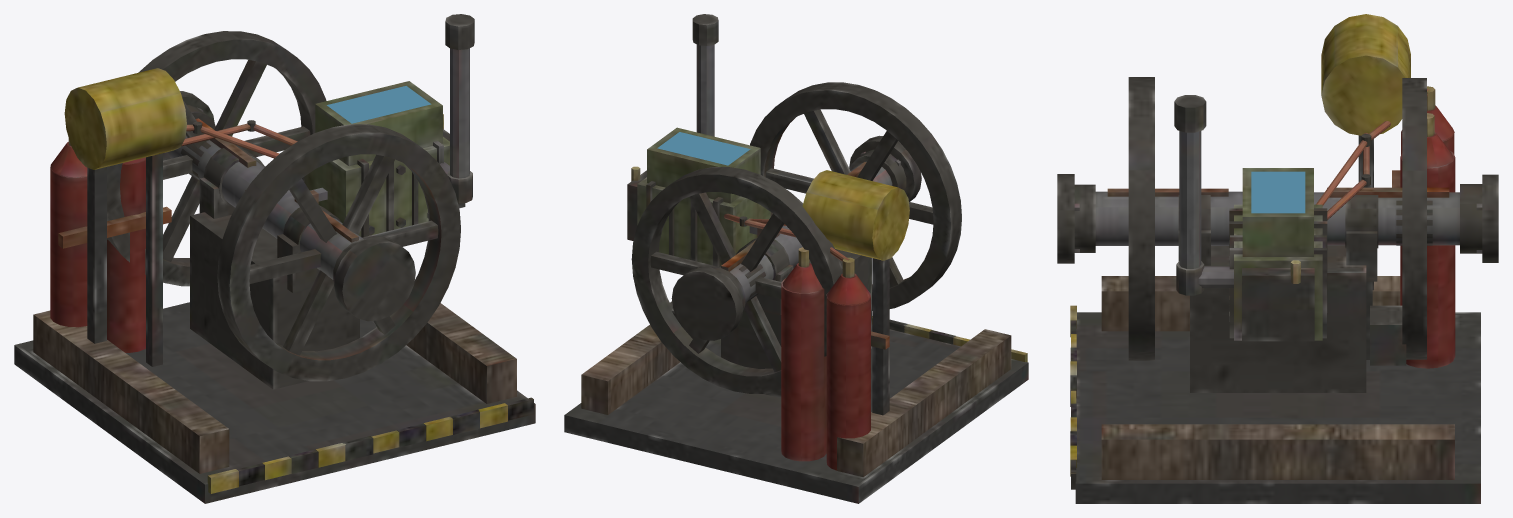
Rendered from feGasMotor.glb.
The picture shows the model from 3 angles, left to right: view 1: azimuth 30°, elevation 25°; view 2: azimuth 150°, elevation 25°; view 3: azimuth 270°, elevation 25°; orthographic projection. The views are drawn at different scales.
Visible parts, largest first — view 1: feGasMotor_Base, FeSpin_EngineCrank, feGasMotor_Bottles; view 2: feGasMotor_Base, FeSpin_EngineCrank, feGasMotor_Bottles; view 3: feGasMotor_Base, FeSpin_EngineCrank, feGasMotor_Bottles.
Boxes of the visible parts, x1=… form: feGasMotor_Base: x1=14, y1=14, x2=535, y2=503; FeSpin_EngineCrank: x1=107, y1=31, x2=460, y2=381; feGasMotor_Bottles: x1=50, y1=121, x2=279, y2=352; feGasMotor_Base: x1=564, y1=14, x2=1028, y2=503; FeSpin_EngineCrank: x1=631, y1=82, x2=961, y2=393; feGasMotor_Bottles: x1=748, y1=218, x2=889, y2=470; feGasMotor_Base: x1=1070, y1=14, x2=1480, y2=503; FeSpin_EngineCrank: x1=1057, y1=77, x2=1498, y2=360; feGasMotor_Bottles: x1=1316, y1=86, x2=1455, y2=368.
Size of the model in its own units: 0.951 by 0.9836 by 1.
Materials: 2 (1 with a texture image).
